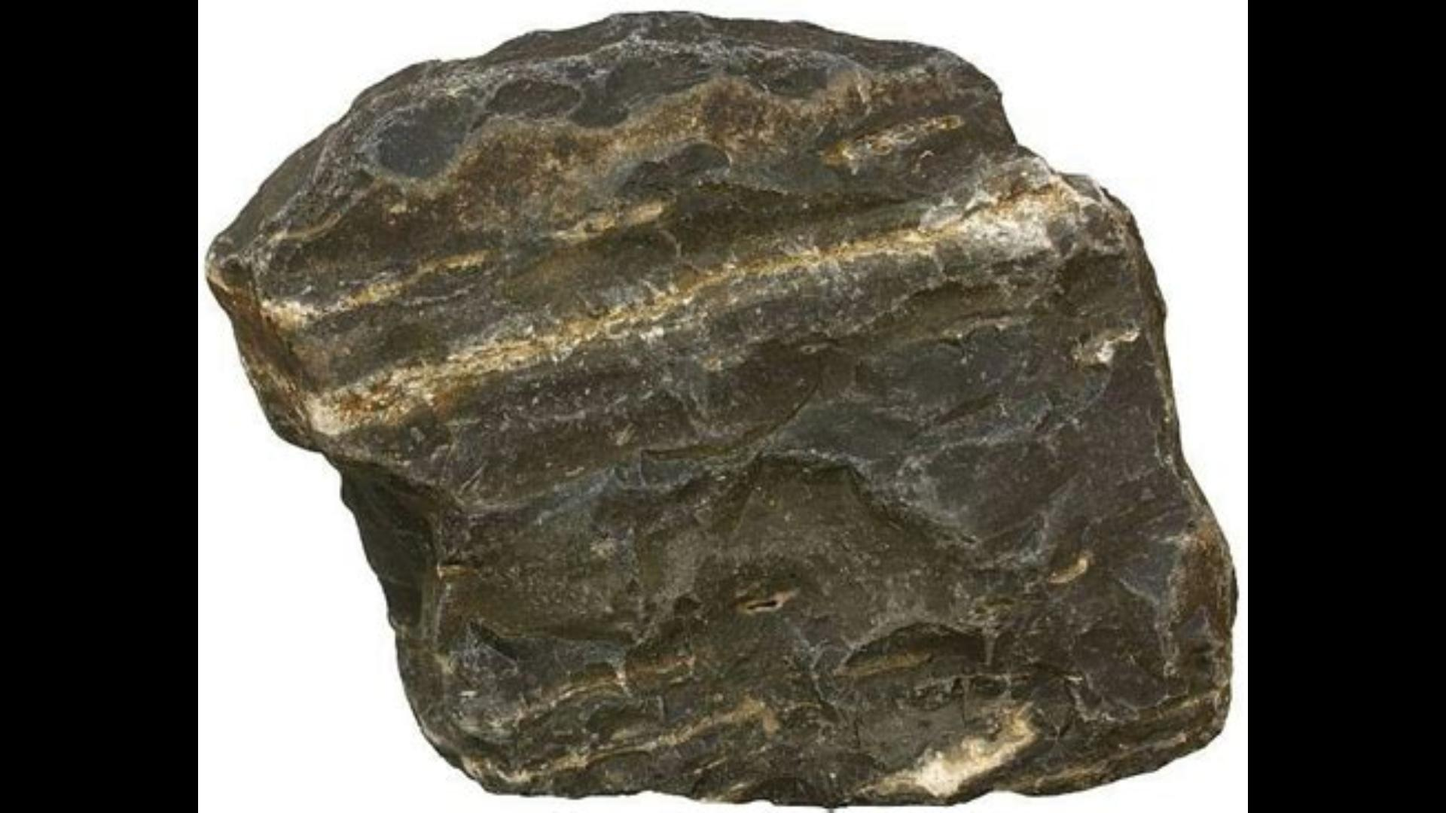rock: (209, 13, 1231, 802)
